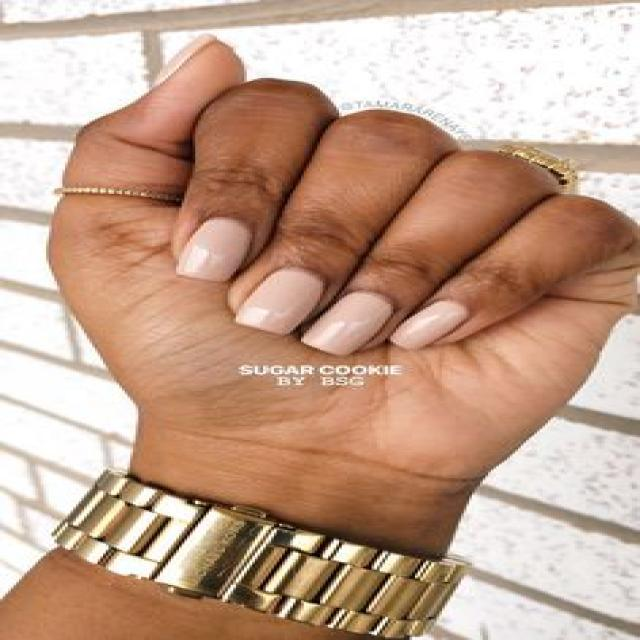Fingernail: (234, 265, 327, 337), (302, 290, 394, 357), (177, 218, 252, 284), (391, 299, 469, 351)
